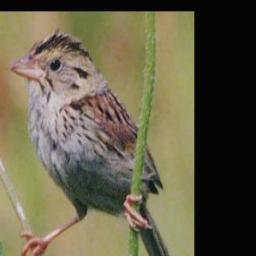Sparrow: (9, 29, 179, 256)
